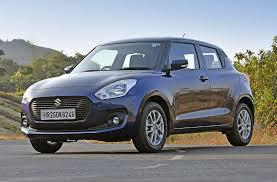Hatchback: (20, 34, 256, 154)
